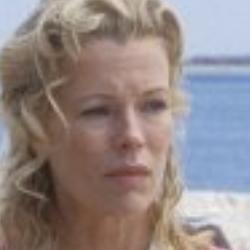face: (1, 3, 190, 233)
